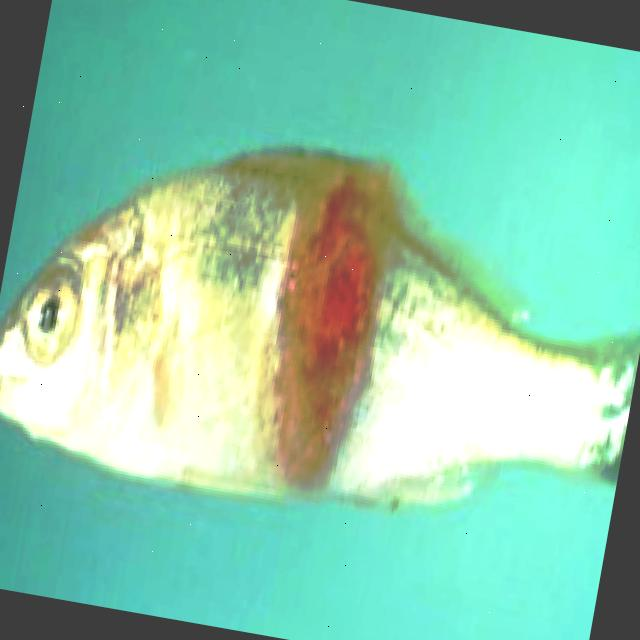Edwardsiella Ictaluri -Bacterial Red Disease-: (0, 147, 640, 506)
